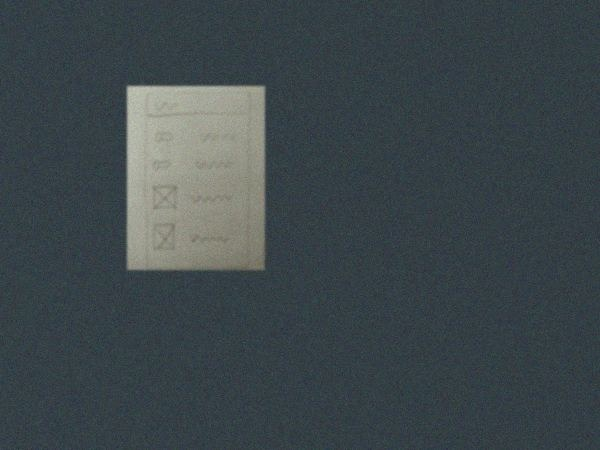image: (150, 223, 178, 253), (150, 185, 179, 212)
switch: (153, 129, 175, 145), (152, 156, 173, 172)
text: (190, 193, 234, 205), (188, 233, 232, 245), (195, 158, 235, 170), (199, 131, 238, 143), (153, 99, 178, 111)
